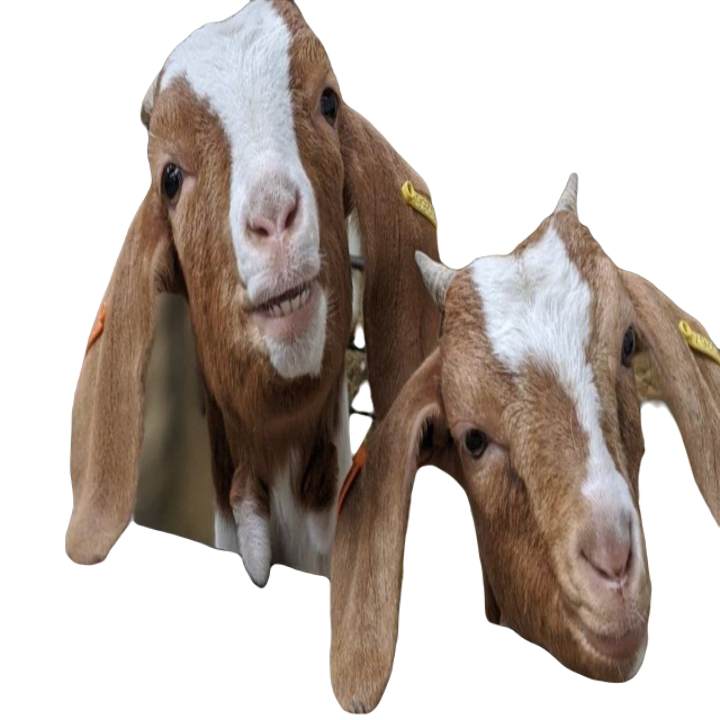Goat: (63, 0, 442, 566)
